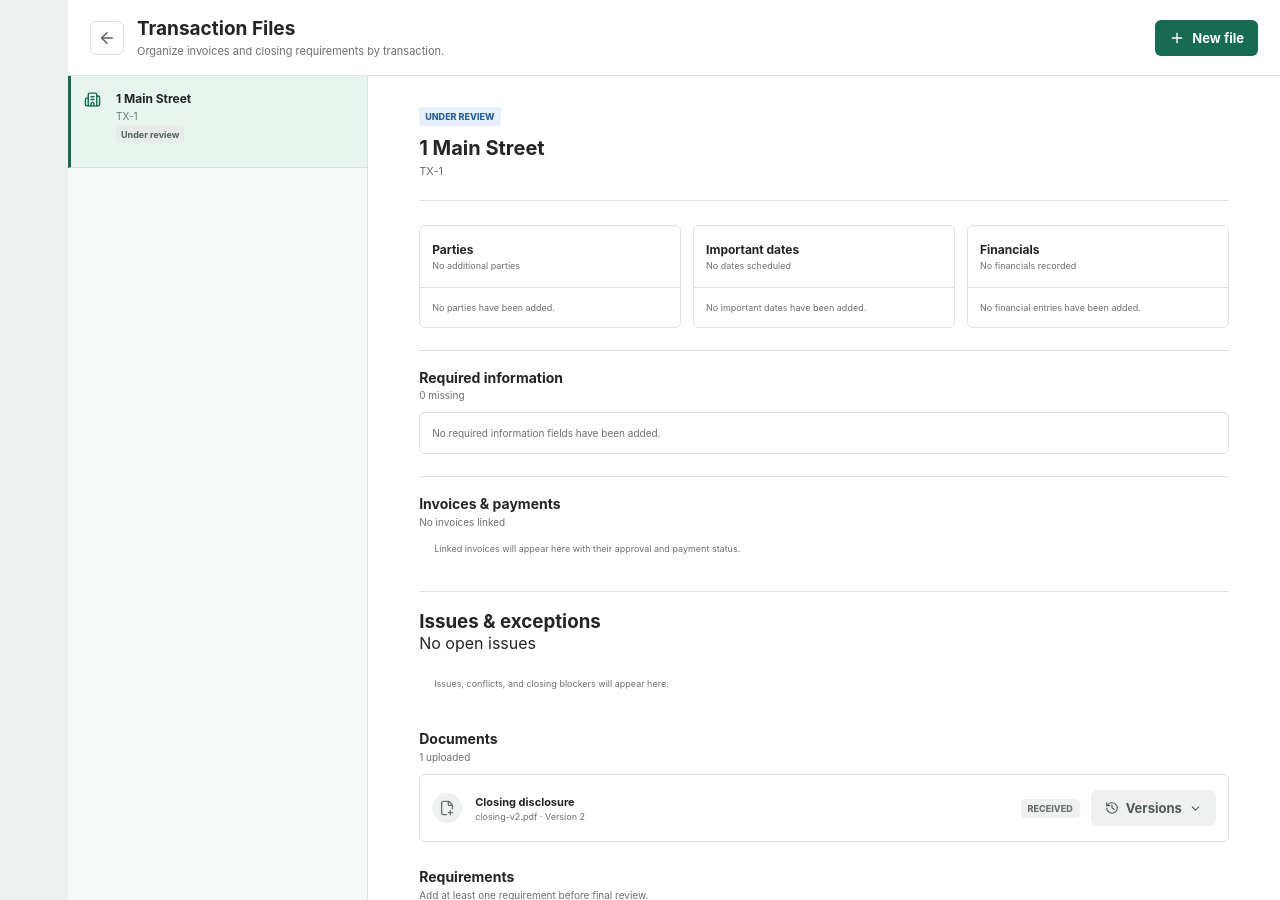
Scenario: Transaction workspace › reveals immutable document versions without replacing the current review row
expect the text "closing-v1.pdf" is not shown: met
Click the button "Versions": x=1153, y=808 [1091,790,1216,826]
(page scrolled)
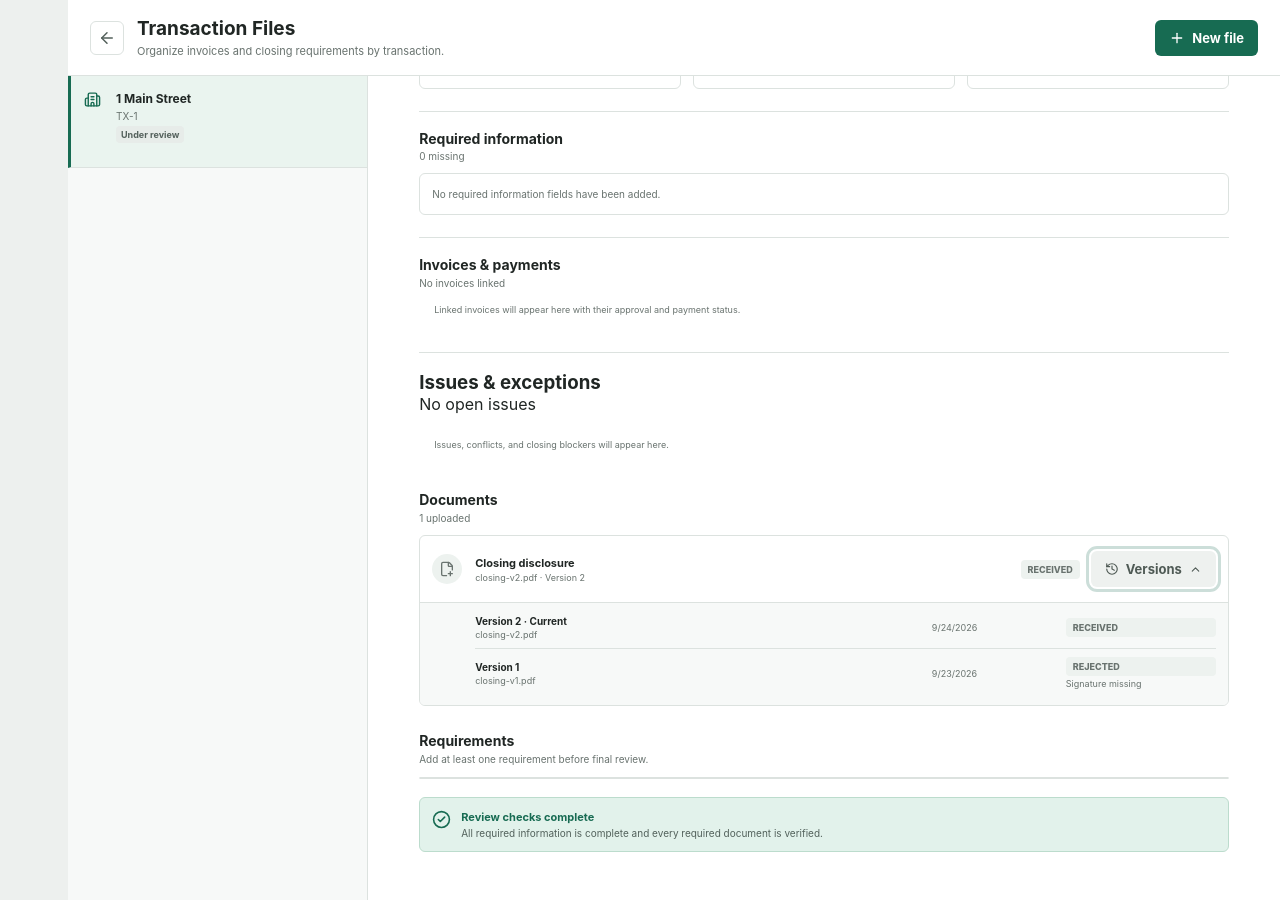
expect the element named "Closing disclosure version history" shows "Version 2 · Current": met, box [420,602,1228,705]
expect the element named "Closing disclosure version history" shows "closing-v1.pdf": met, box [475,674,536,686]
expect the element named "Closing disclosure version history" shows "Signature missing": met, box [1066,678,1142,689]
